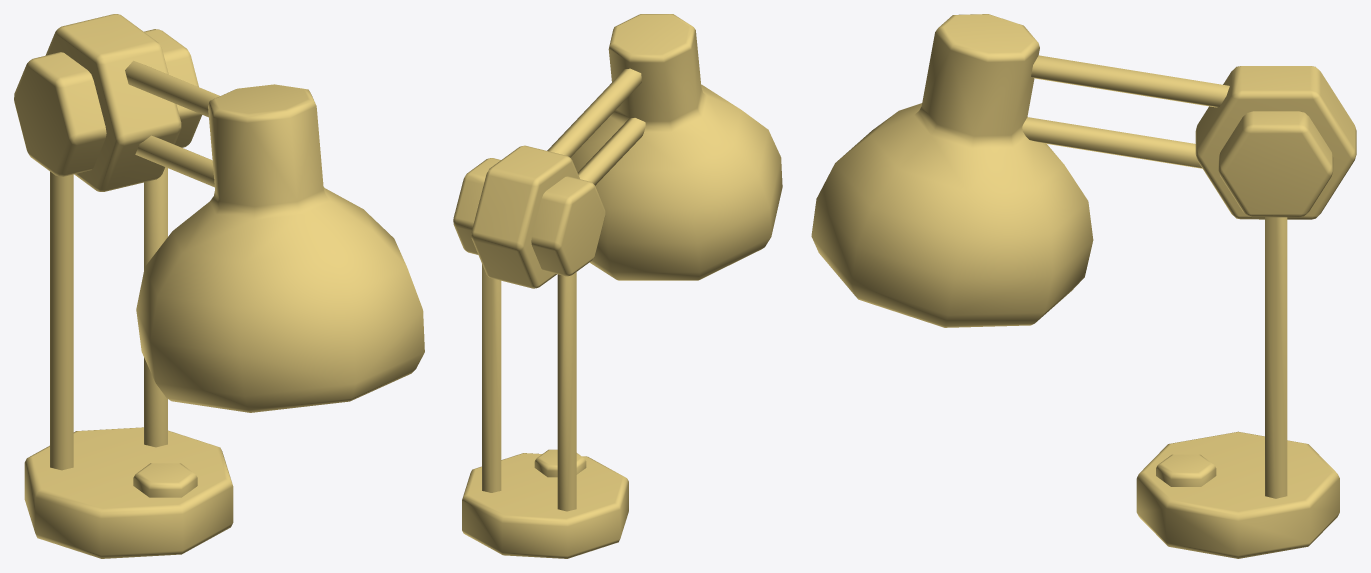
The model's file is chambre_lampe_bureau.fbx.
3 views of the same model, side by side, from view 1: azimuth 30°, elevation 25°; view 2: azimuth 150°, elevation 25°; view 3: azimuth 270°, elevation 25° (orthographic). The views are drawn at different scales.
Visible parts, largest first — view 1: msh_cha_lampe_bureau_002; view 2: msh_cha_lampe_bureau_002; view 3: msh_cha_lampe_bureau_002.
Boxes of the visible parts, box(x1,y1,x2,y2) form: msh_cha_lampe_bureau_002: box(14, 14, 424, 558); msh_cha_lampe_bureau_002: box(453, 14, 782, 558); msh_cha_lampe_bureau_002: box(811, 14, 1356, 558).
Bounding box in the file's own units: 19.95 × 38.59 × 38.76.
